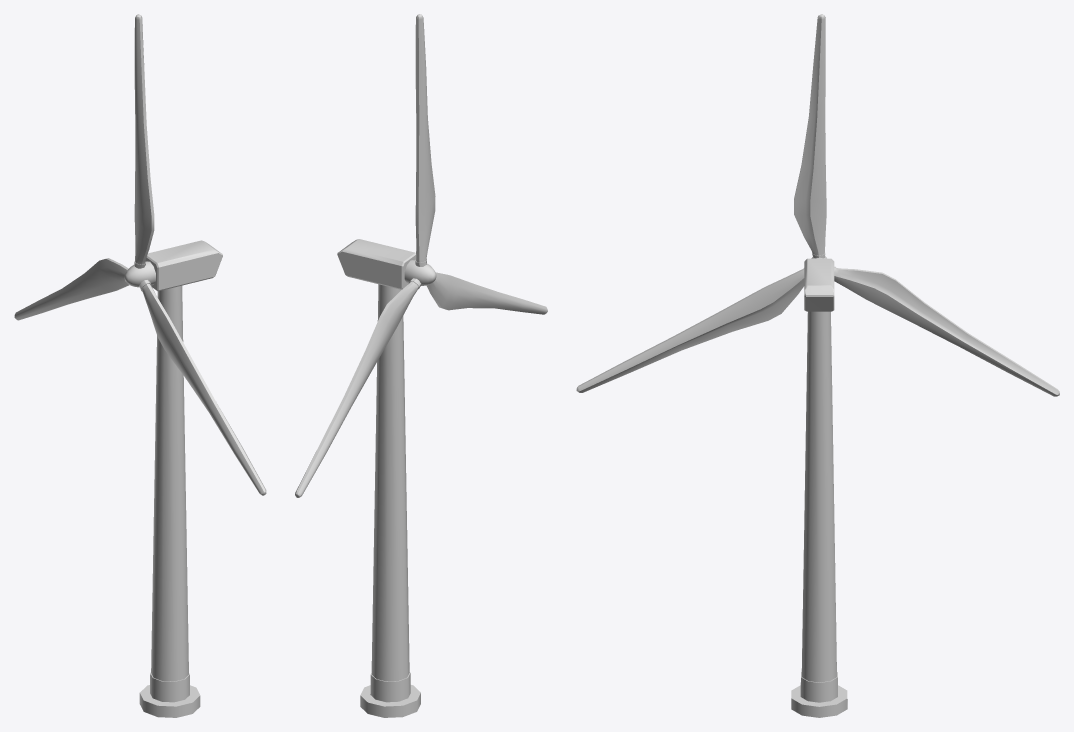
File: wind_turbine_fixed.fbx
3 renders of one model, left to right at view 1: azimuth 30°, elevation 25°; view 2: azimuth 150°, elevation 25°; view 3: azimuth 270°, elevation 25°, orthographic. The views are drawn at different scales.
Visible parts, largest first — view 1: wind_turbine_structure_LOD0, wind_turbine_blades_LOD0; view 2: wind_turbine_structure_LOD0, wind_turbine_blades_LOD0; view 3: wind_turbine_blades_LOD0, wind_turbine_structure_LOD0.
Boxes of the visible parts, x1=… form: wind_turbine_structure_LOD0: x1=139, y1=240, x2=222, y2=717; wind_turbine_blades_LOD0: x1=14, y1=14, x2=266, y2=495; wind_turbine_structure_LOD0: x1=337, y1=239, x2=420, y2=717; wind_turbine_blades_LOD0: x1=295, y1=14, x2=547, y2=497; wind_turbine_blades_LOD0: x1=576, y1=14, x2=1059, y2=396; wind_turbine_structure_LOD0: x1=791, y1=258, x2=847, y2=717.
Size of what is drawn, in the model's own units: 10.63 by 78.18 by 50.55.
Materials: 1 (1 with a texture image).
